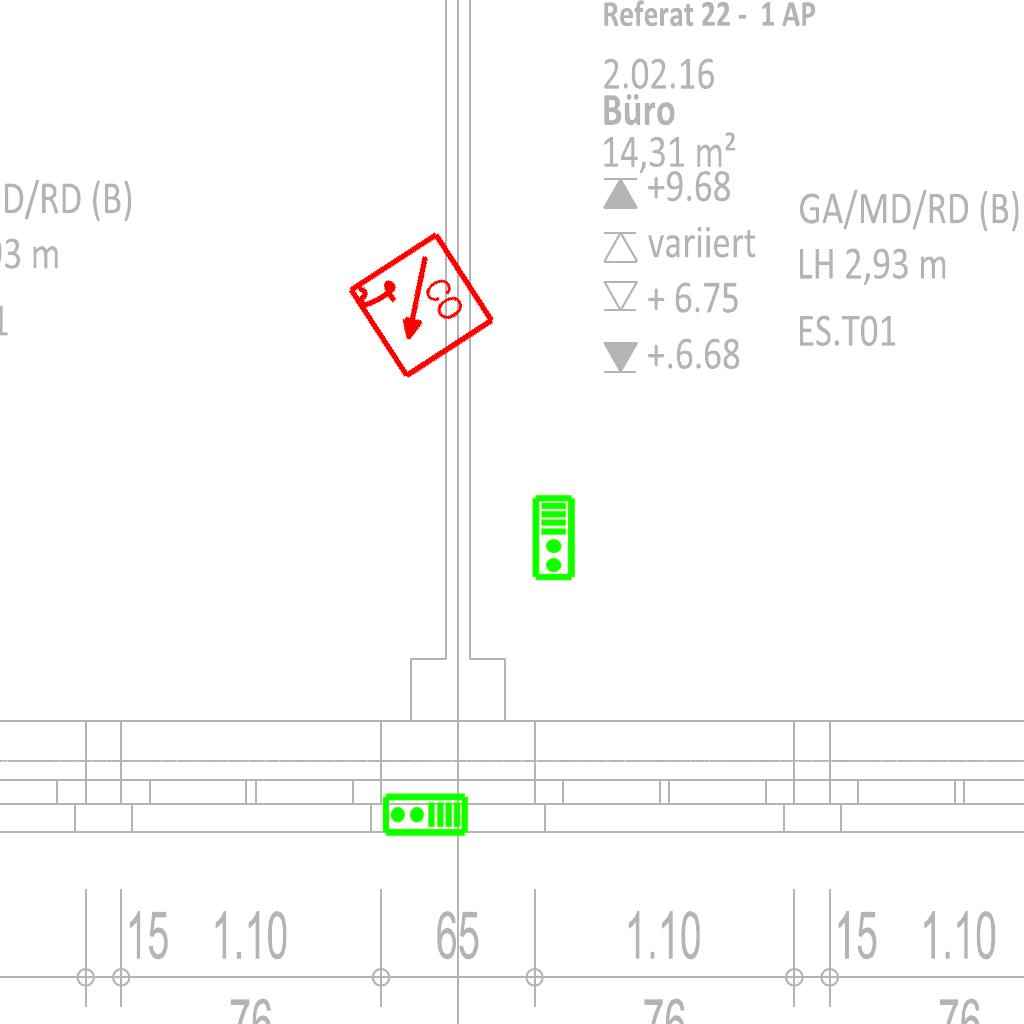Gegensprechanlage_mit_Video: (531, 494, 578, 582), (381, 792, 469, 839)
ROA_Rauchmelder_optisch_mit_Signalgeber_(Sockelsirene): (342, 228, 499, 385)
